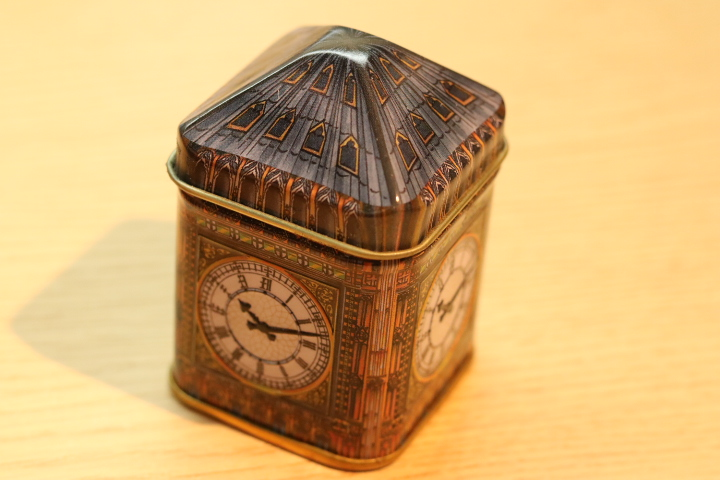Big Ben: (150, 17, 535, 480)
